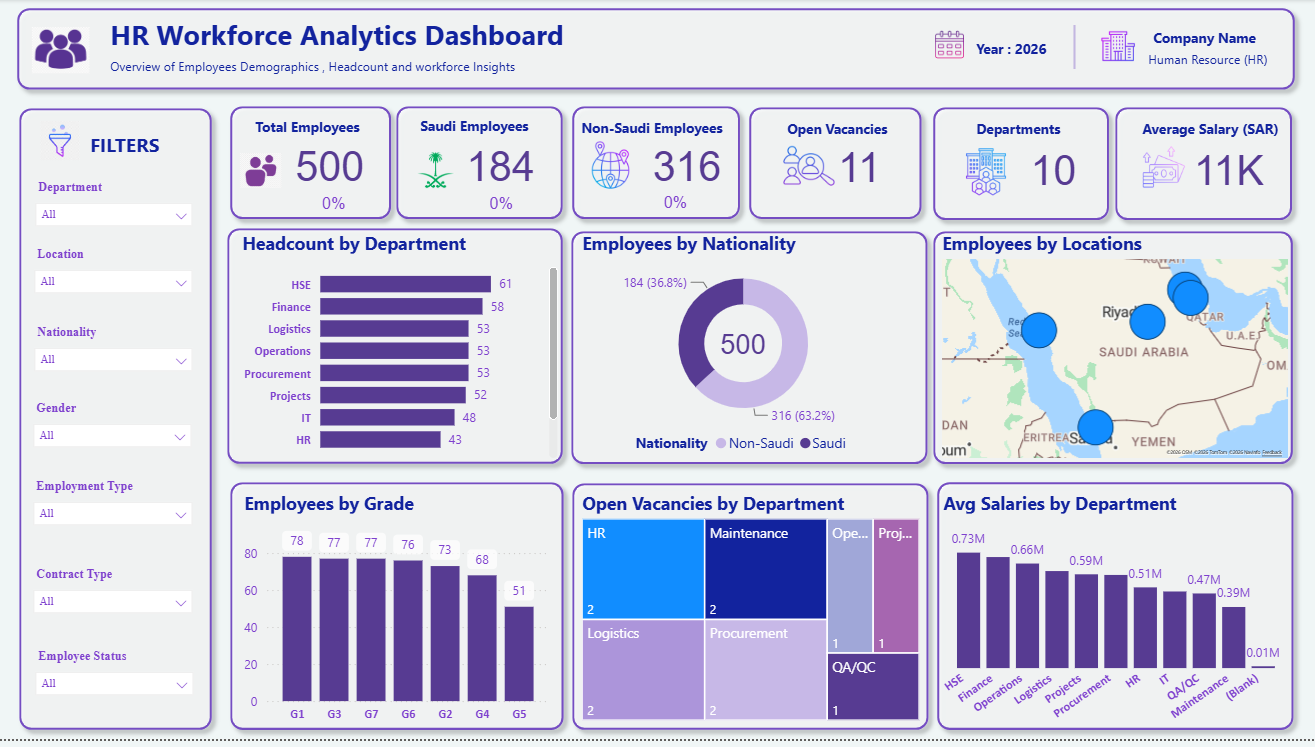

The dashboard page shown, as its layout file describes it:
{"tool":"powerbi","page":{"name":"Page 1","canvas":[1280,720],"ordinal":0},"visuals":[{"type":"shape","box":[8.5,0,1260.6,97.1],"z":0},{"type":"textbox","box":[103.1,10.7,645.8,46.7],"z":1000},{"type":"textbox","box":[103.1,51,458.6,34],"z":2000},{"type":"image","box":[0,22.7,120.9,55.5],"z":3000},{"type":"shape","box":[10.7,97.3,205.2,622.5],"z":4000},{"type":"image","box":[24.8,113.8,70.6,47.7],"z":5000},{"type":"textbox","box":[83.5,123.9,93.6,47.7],"z":6000},{"type":"slicer","fields":{"Values":["Employees.Department"]},"box":[25.7,171.6,173.4,65.1],"z":7000},{"type":"slicer","fields":{"Values":["Employees.Location"]},"box":[24.8,236.7,174.3,65.1],"z":8000},{"type":"slicer","fields":{"Values":["Employees.Nationality"]},"box":[24.8,311.9,174.3,65.1],"z":9000},{"type":"slicer","fields":{"Values":["Employees.Gender"]},"box":[23.3,386.1,174.1,65.2],"z":10000},{"type":"slicer","fields":{"Values":["Employees.Employment Type"]},"box":[23.3,462,175.1,65.2],"z":11000},{"type":"slicer","fields":{"Values":["Employees.Status"]},"box":[25.3,627.4,174.1,65.2],"z":12000},{"type":"slicer","fields":{"Values":["Employees.Contract Type"]},"box":[23.3,547.6,175.1,65.2],"z":13000},{"type":"shape","box":[215.6,95.6,174.4,127.8],"z":14000},{"type":"card","fields":{"Values":["CountNonNull(Employees.Emp ID)"]},"box":[258.3,137.9,126.2,46.6],"z":15000},{"type":"textbox","box":[243.8,110.3,120.2,33.9],"z":16000},{"type":"card","fields":{"Values":["Employees.Active Employee %"]},"box":[288.3,184.5,75.7,31.1],"z":17000},{"type":"image","box":[221.5,145.4,66.9,43.8],"z":18000},{"type":"shape","box":[377.8,95.6,180,127.8],"z":19000},{"type":"card","fields":{"Values":["CountNonNull(Employees.Nationality)"]},"box":[424.6,138.5,125.4,46.2],"z":20000},{"type":"textbox","box":[404.9,108.7,143.7,34],"z":21000},{"type":"card","fields":{"Values":["Employees.Saudi Employee %"]},"box":[450.5,184.5,76.7,31.1],"z":22000},{"type":"image","box":[384.5,141.7,80.6,47.6],"z":23000},{"type":"shape","box":[548.9,95.6,181.1,127.8],"z":24000},{"type":"card","fields":{"Values":["CountNonNull(Employees.Emp ID)"]},"box":[618.9,137.8,101.1,46.7],"z":25000},{"type":"textbox","box":[561.5,110.8,164.6,33.8],"z":26000},{"type":"card","fields":{"Values":["Employees.Non-Saudi Employee %"]},"box":[619.2,183.8,76.9,31.5],"z":27000},{"type":"image","box":[557.7,132.3,74.6,58.5],"z":28000},{"type":"shape","box":[721.1,96.7,185.6,126.7],"z":29000},{"type":"card","fields":{"Values":["Sum(Dashboard_Data.Open Vacancies)"]},"box":[774.6,139.2,125.4,46.2],"z":30000},{"type":"textbox","box":[761.5,111.5,151.5,33.8],"z":31000},{"type":"image","box":[753.8,132.3,68.5,60],"z":32000},{"type":"shape","box":[900,96.7,188.9,127.8],"z":33000},{"type":"shape","box":[1076.7,96.7,190,127.8],"z":34000},{"type":"textbox","box":[945.4,111.5,103.8,33.8],"z":35000},{"type":"card","fields":{"Values":["Count(Employees.Department)"]},"box":[963.1,141.5,125.4,46.2],"z":36000},{"type":"image","box":[923.1,140,74.6,56.2],"z":37000},{"type":"textbox","box":[1106.9,95.4,160,56.2],"z":38000},{"type":"image","box":[1106.9,131.5,52.3,64.6],"z":39000},{"type":"card","fields":{"Values":["Avg(Employees.Salary)"]},"box":[1150,142.3,93.1,46.2],"z":40000},{"type":"shape","box":[213,214,344.3,247.1],"z":41000},{"type":"barChart","title":"Headcount by Department","fields":{"Category":["Employees.Department"],"Y":["CountNonNull(Employees.Emp ID)"]},"box":[231.1,224.4,316.7,226.7],"z":42000},{"type":"shape","box":[547.8,216.7,364.4,244.4],"z":43000},{"type":"shape","box":[900,216.7,367.8,244.4],"z":44000},{"type":"donutChart","title":"Employees by Nationality","fields":{"Category":["Employees.Nationality"],"Y":["CountNonNull(Employees.Emp ID)"]},"box":[562.2,224.4,323.3,226.7],"z":45000},{"type":"card","fields":{"Values":["CountNonNull(Employees.Emp ID)"]},"box":[675,312.2,97.3,46.7],"z":46000},{"type":"azureMap","title":"Employees by Locations","fields":{"X":["Employees.Longitude"],"Y":["Employees.Latitude"]},"box":[912.2,224.4,345.6,226.7],"z":47000},{"type":"shape","box":[215.6,461.1,342.2,258.9],"z":48000},{"type":"lineClusteredColumnComboChart","title":"Employees by Grade","fields":{"Category":["Employees.Grade"],"Y":["CountNonNull(Employees.Emp ID)"]},"box":[233.3,477.8,306.7,233.3],"z":49000},{"type":"shape","box":[548.9,462.2,364.4,257.8],"z":50000},{"type":"shape","box":[903.3,461.1,364.4,258.9],"z":51000},{"type":"treemap","title":"Open Vacancies by Department","fields":{"Group":["Dashboard_Data.Department"],"Values":["Sum(Dashboard_Data.Open Vacancies)"]},"box":[562.2,477.8,337.8,228.9],"z":52000},{"type":"columnChart","title":"Avg Salaries by Department","fields":{"Category":["Employees.Department"],"Y":["Sum(Employees.Salary)"]},"box":[913.3,477.8,344.4,242.2],"z":53000},{"type":"image","box":[1066,23.3,44.7,44.7],"z":54000},{"type":"textbox","box":[1117.6,23.3,125.5,34],"z":55000},{"type":"textbox","box":[1112.7,43.8,144.9,34],"z":56000},{"type":"shape","box":[1008.6,25.3,74.9,42.8],"z":57000},{"type":"image","box":[903.6,25.3,41.8,37.9],"z":58000},{"type":"textbox","box":[945.4,34,84.6,34],"z":59000}]}

Visuals, with their boxes in screenshot pixels (x1, y1, x2, y2), scaled from the page's 1280x720 canvas onto the 1315x747 screenshot:
shape: detection(9, 0, 1304, 101)
textbox: detection(106, 11, 769, 60)
textbox: detection(106, 53, 577, 88)
image: detection(0, 24, 124, 81)
shape: detection(11, 101, 222, 746)
image: detection(25, 118, 98, 168)
textbox: detection(86, 129, 182, 178)
slicer - Employees.Department: detection(26, 178, 205, 246)
slicer - Employees.Location: detection(25, 246, 205, 313)
slicer - Employees.Nationality: detection(25, 324, 205, 391)
slicer - Employees.Gender: detection(24, 401, 203, 468)
slicer - Employees.Employment Type: detection(24, 479, 204, 547)
slicer - Employees.Status: detection(26, 651, 205, 719)
slicer - Employees.Contract Type: detection(24, 568, 204, 636)
shape: detection(221, 99, 401, 232)
card - CountNonNull(Employees.Emp ID): detection(265, 143, 395, 191)
textbox: detection(250, 114, 374, 150)
card - Employees.Active Employee %: detection(296, 191, 374, 224)
image: detection(228, 151, 296, 196)
shape: detection(388, 99, 573, 232)
card - CountNonNull(Employees.Nationality): detection(436, 144, 565, 192)
textbox: detection(416, 113, 564, 148)
card - Employees.Saudi Employee %: detection(463, 191, 542, 224)
image: detection(395, 147, 478, 196)
shape: detection(564, 99, 750, 232)
card - CountNonNull(Employees.Emp ID): detection(636, 143, 740, 191)
textbox: detection(577, 115, 746, 150)
card - Employees.Non-Saudi Employee %: detection(636, 191, 715, 223)
image: detection(573, 137, 650, 198)
shape: detection(741, 100, 931, 232)
card - Sum(Dashboard_Data.Open Vacancies): detection(796, 144, 925, 192)
textbox: detection(782, 116, 938, 151)
image: detection(774, 137, 845, 200)
shape: detection(925, 100, 1119, 233)
shape: detection(1106, 100, 1301, 233)
textbox: detection(971, 116, 1078, 151)
card - Count(Employees.Department): detection(989, 147, 1118, 195)
image: detection(948, 145, 1025, 204)
textbox: detection(1137, 99, 1302, 157)
image: detection(1137, 136, 1191, 203)
card - Avg(Employees.Salary): detection(1181, 148, 1277, 196)
shape: detection(219, 222, 573, 478)
"Headcount by Department" barChart: detection(237, 233, 563, 468)
shape: detection(563, 225, 937, 478)
shape: detection(925, 225, 1302, 478)
"Employees by Nationality" donutChart: detection(578, 233, 910, 468)
card - CountNonNull(Employees.Emp ID): detection(693, 324, 793, 372)
"Employees by Locations" azureMap: detection(937, 233, 1292, 468)
shape: detection(221, 478, 573, 746)
"Employees by Grade" lineClusteredColumnComboChart: detection(240, 496, 555, 738)
shape: detection(564, 480, 938, 746)
shape: detection(928, 478, 1302, 746)
"Open Vacancies by Department" treemap: detection(578, 496, 925, 733)
"Avg Salaries by Department" columnChart: detection(938, 496, 1292, 746)
image: detection(1095, 24, 1141, 71)
textbox: detection(1148, 24, 1277, 59)
textbox: detection(1143, 45, 1292, 81)
shape: detection(1036, 26, 1113, 71)
image: detection(928, 26, 971, 66)
textbox: detection(971, 35, 1058, 71)
